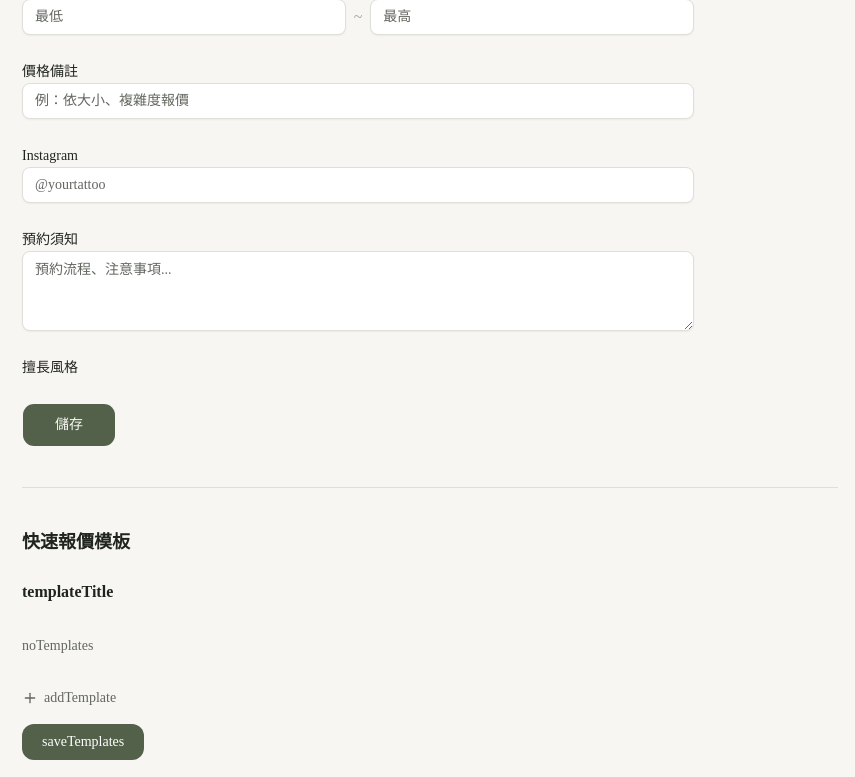
it: ProfilePage › PUTs the locally-added template and shows the saved state on success
(page scrolled)
What coordinates should you click on to do the following:
click the button "addTemplate"
I would click on:
 (69, 698)
Its box is [22, 688, 116, 708].
(page scrolled)
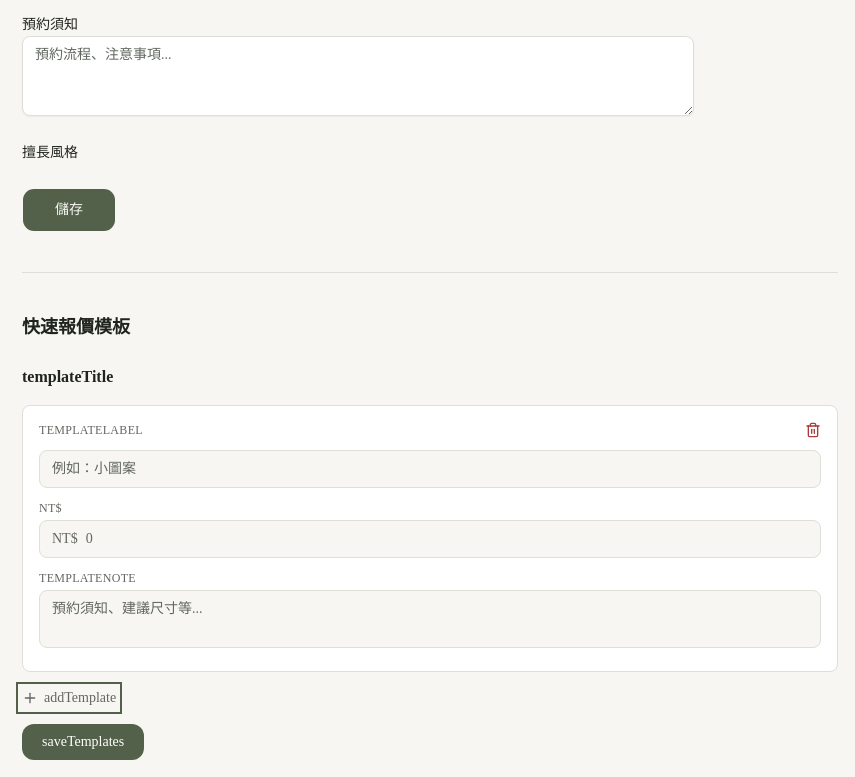
What coordinates should you click on to do the following:
click the button "saveTemplates"
I would click on:
 (83, 742)
Its box is [22, 724, 144, 760].
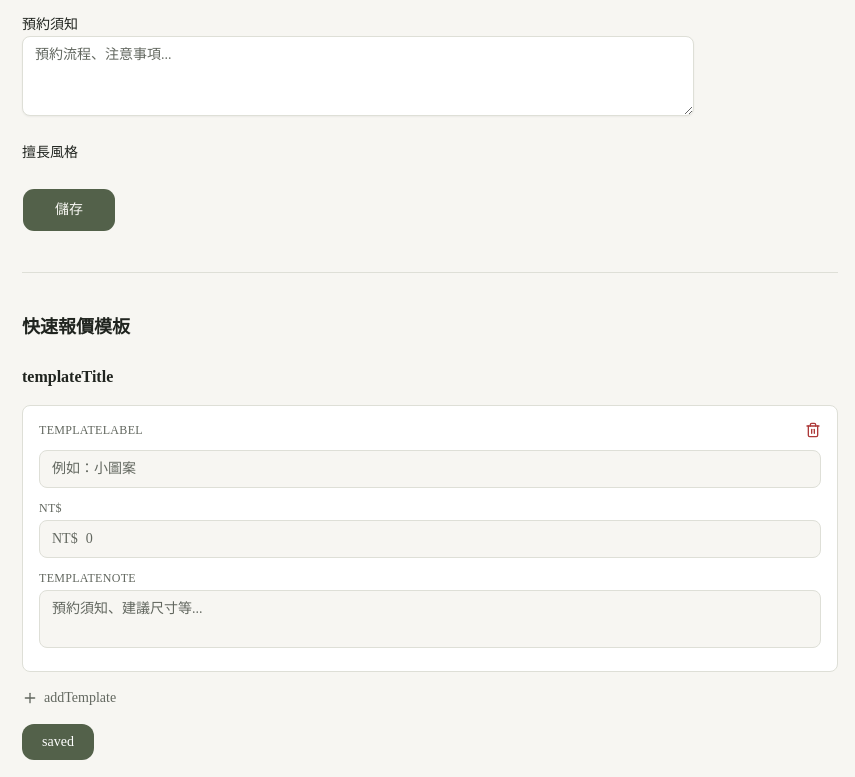
Result: the button "saved" is shown at [22, 724, 94, 760]
